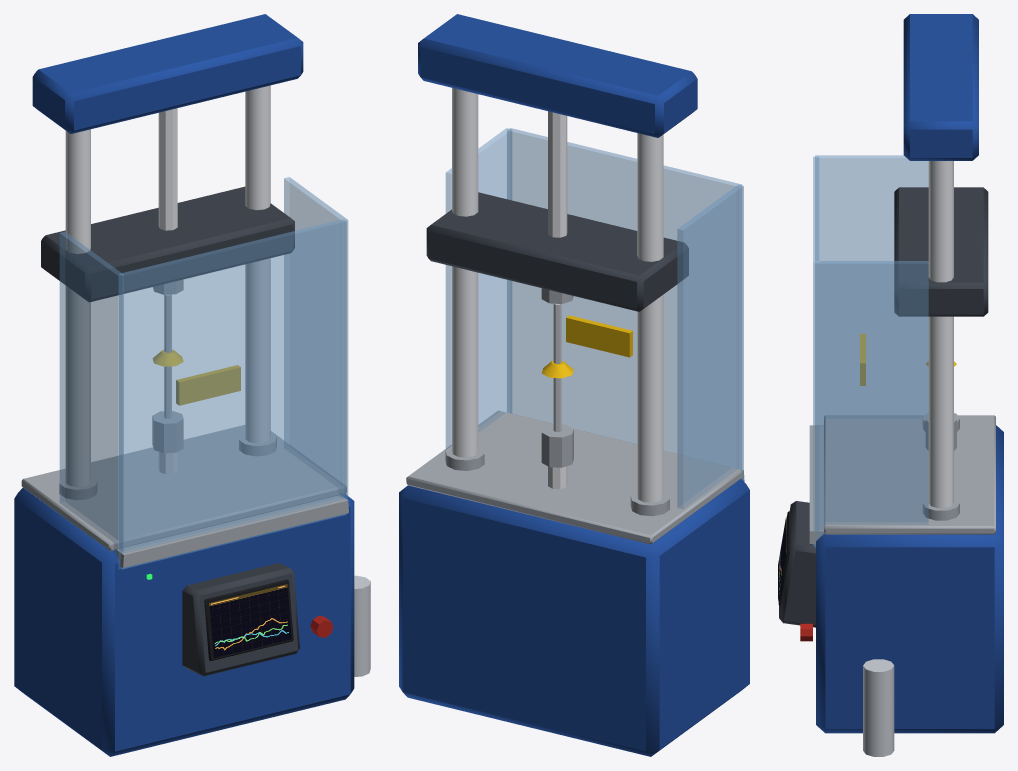
The model's file is analyzer_materials_tester.glb.
The picture shows the model from 3 angles, left to right: view 1: azimuth 30°, elevation 25°; view 2: azimuth 150°, elevation 25°; view 3: azimuth 270°, elevation 25°; orthographic projection. The views are drawn at different scales.
Parts seen in each view (by area): view 1: analyzer_materials_tester; view 2: analyzer_materials_tester; view 3: analyzer_materials_tester.
Part boxes in pixels (bbox=[...]): analyzer_materials_tester: bbox=[14, 14, 370, 756]; analyzer_materials_tester: bbox=[399, 14, 749, 756]; analyzer_materials_tester: bbox=[778, 14, 1003, 756].
Size of the model in its own units: 1.05 by 2.15 by 0.7214.
Materials: 12 (1 with a texture image).
